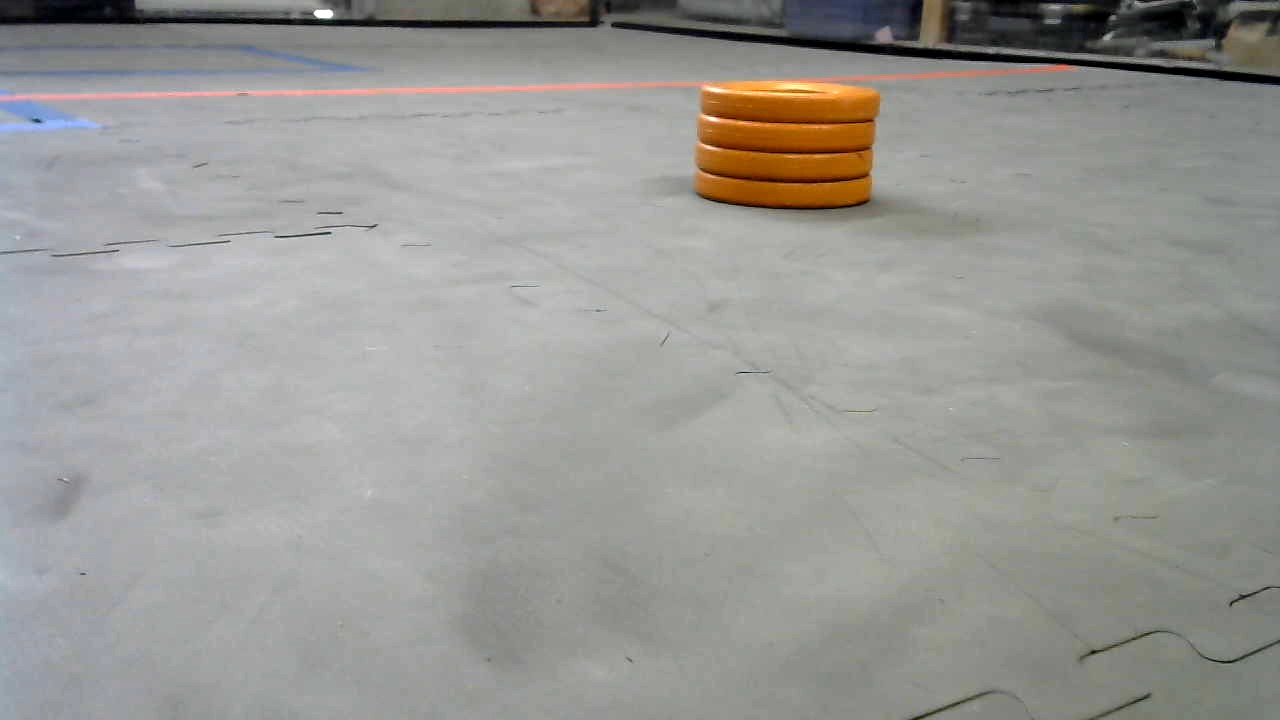FourStack: (694, 80, 882, 209)
